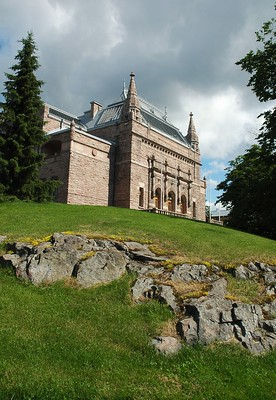low: (26, 70, 211, 224)
